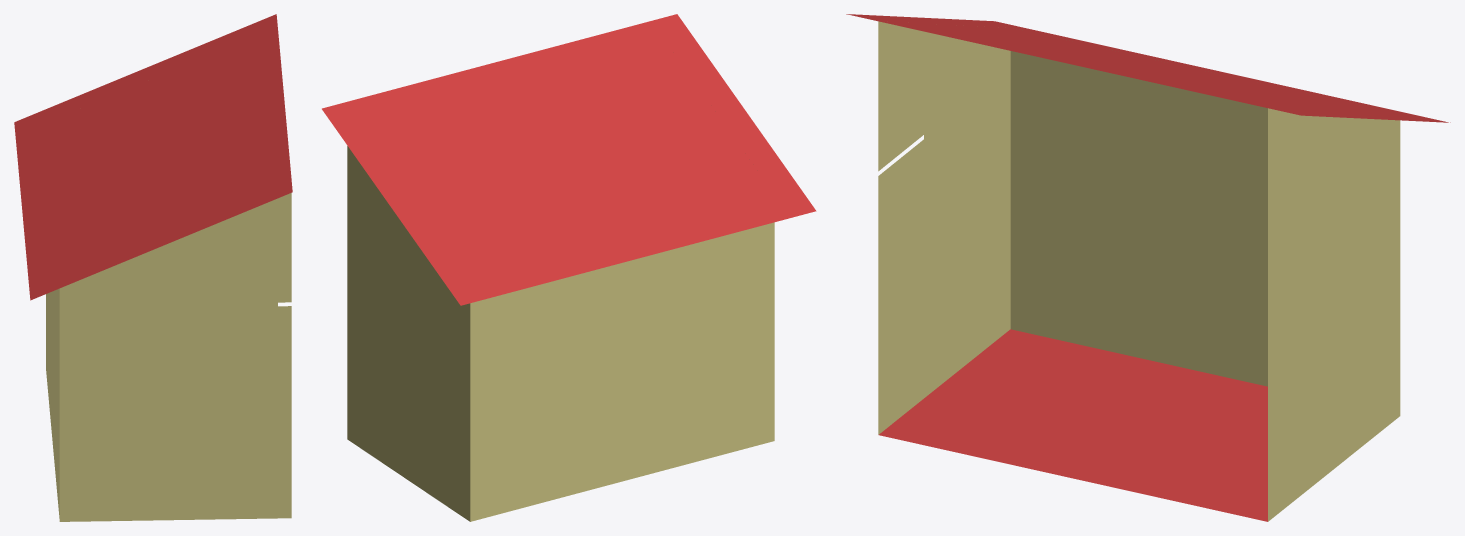
The picture shows the model from 3 angles, left to right: view 1: azimuth 30°, elevation 25°; view 2: azimuth 150°, elevation 25°; view 3: azimuth 270°, elevation 25°; orthographic projection. The views are drawn at different scales.
Bounding box in the file's own units: 10.51 × 12.14 × 9.15.
